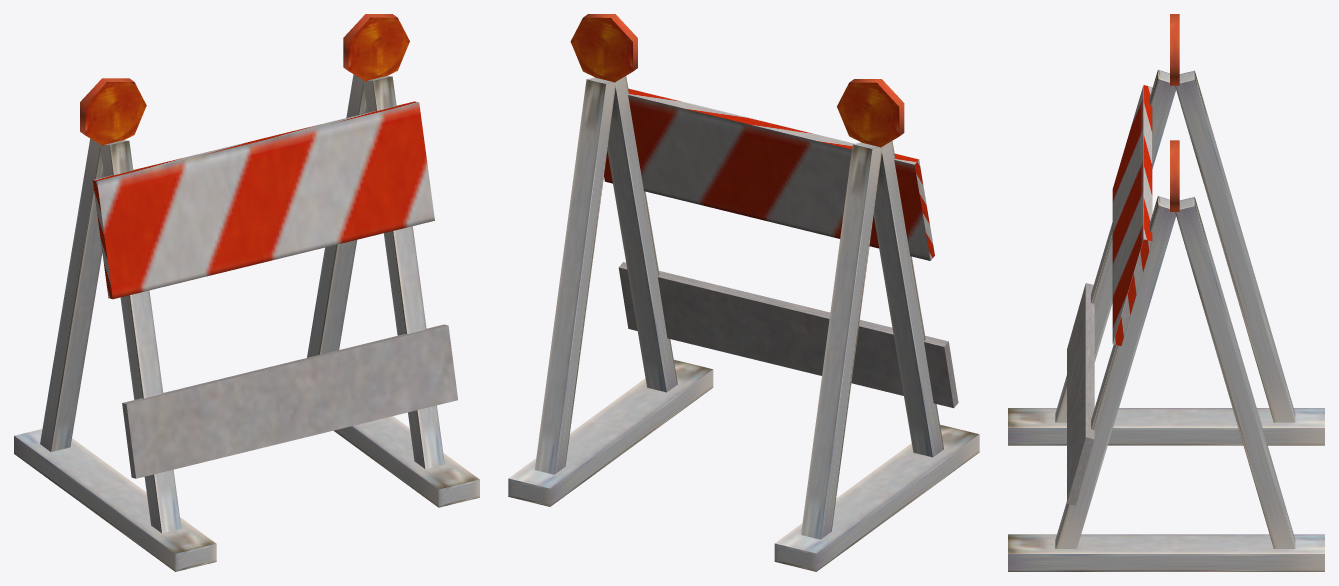
Rendered from D_rclose_03.FBX.
3 renders of one model, left to right at view 1: azimuth 30°, elevation 25°; view 2: azimuth 150°, elevation 25°; view 3: azimuth 270°, elevation 25°, orthographic. The views are drawn at different scales.
Visible parts, largest first — view 1: Box007; view 2: Box007; view 3: Box007.
Boxes of the visible parts, <box> form: Box007: <box>14,14,479,571</box>; Box007: <box>508,14,979,571</box>; Box007: <box>1008,14,1324,571</box>.
Bounding box in the file's own units: 2.86 × 3.57 × 2.45.
